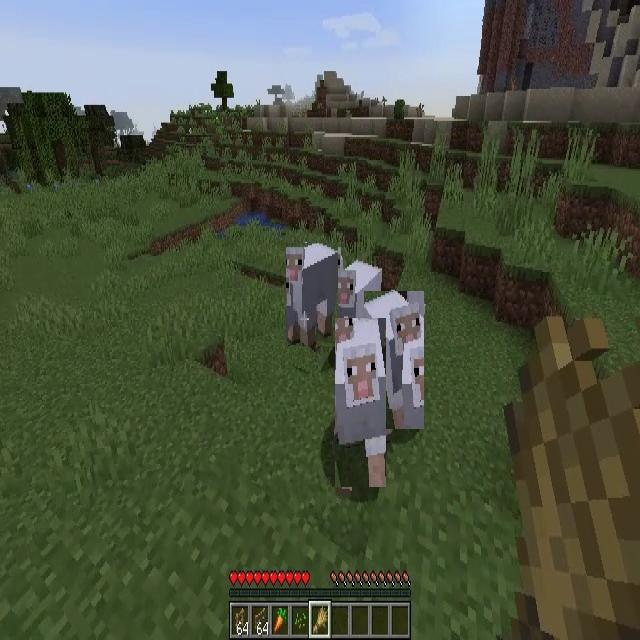sheep: (335, 318, 386, 487), (364, 291, 424, 429), (286, 243, 338, 346), (334, 257, 382, 336)
